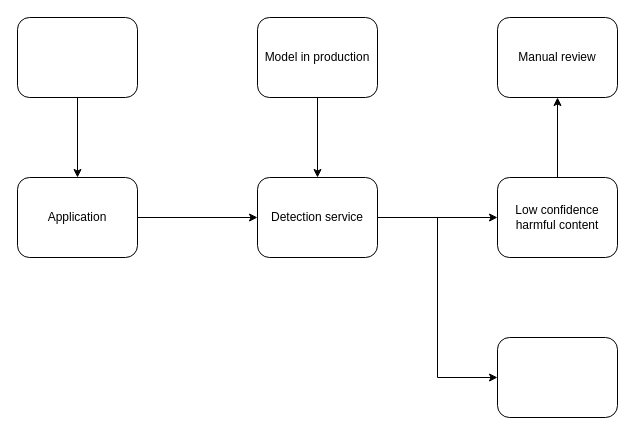
Some shapes in this 635 by 435 pixel diagram are drawn without their labels. Here are the shapes that lost their labels. From the top down, the centre of each, then its label:
the point at 77,57: User
the point at 557,377: High confidence harmful content
